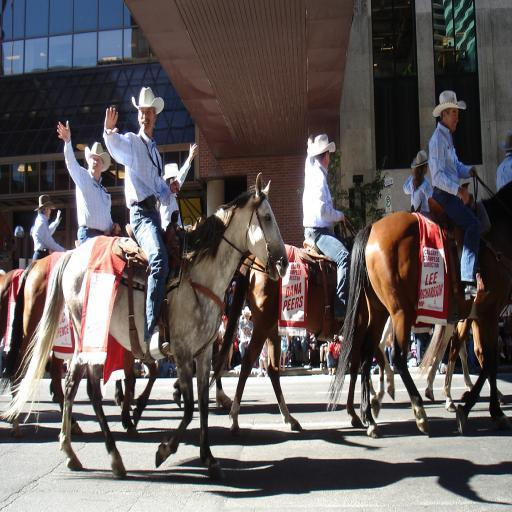horse: (1, 170, 291, 482), (324, 181, 511, 446), (212, 236, 396, 439)
